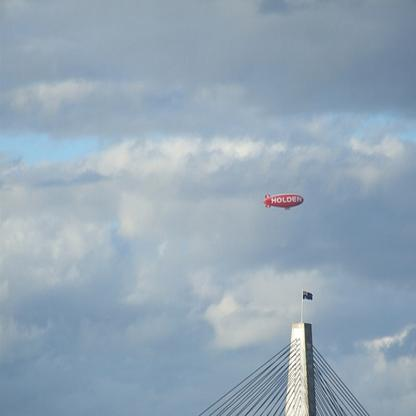Airship: (261, 189, 304, 217)
